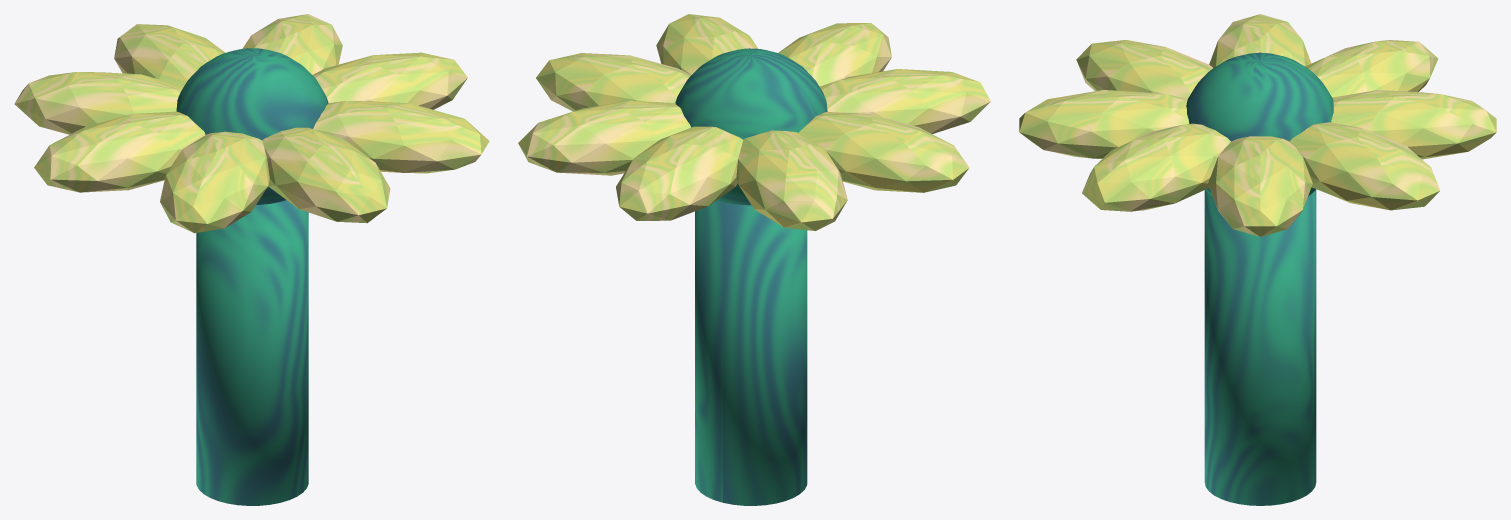
Rendered from flowers-2.gltf.
3 renders of one model, left to right at view 1: azimuth 30°, elevation 25°; view 2: azimuth 150°, elevation 25°; view 3: azimuth 270°, elevation 25°, orthographic.
Visible parts, largest first — view 1: Petals, Stem; view 2: Petals, Stem; view 3: Petals, Stem.
Boxes of the visible parts, bbox=[...] form: Petals: bbox=[14, 14, 489, 233]; Stem: bbox=[176, 48, 328, 505]; Petals: bbox=[518, 14, 990, 230]; Stem: bbox=[675, 48, 827, 505]; Petals: bbox=[1019, 14, 1496, 236]; Stem: bbox=[1186, 52, 1333, 505].
Bounding box in the file's own units: 0.2173 × 0.212 × 0.2173.
Materials: 2 (2 with a texture image).
